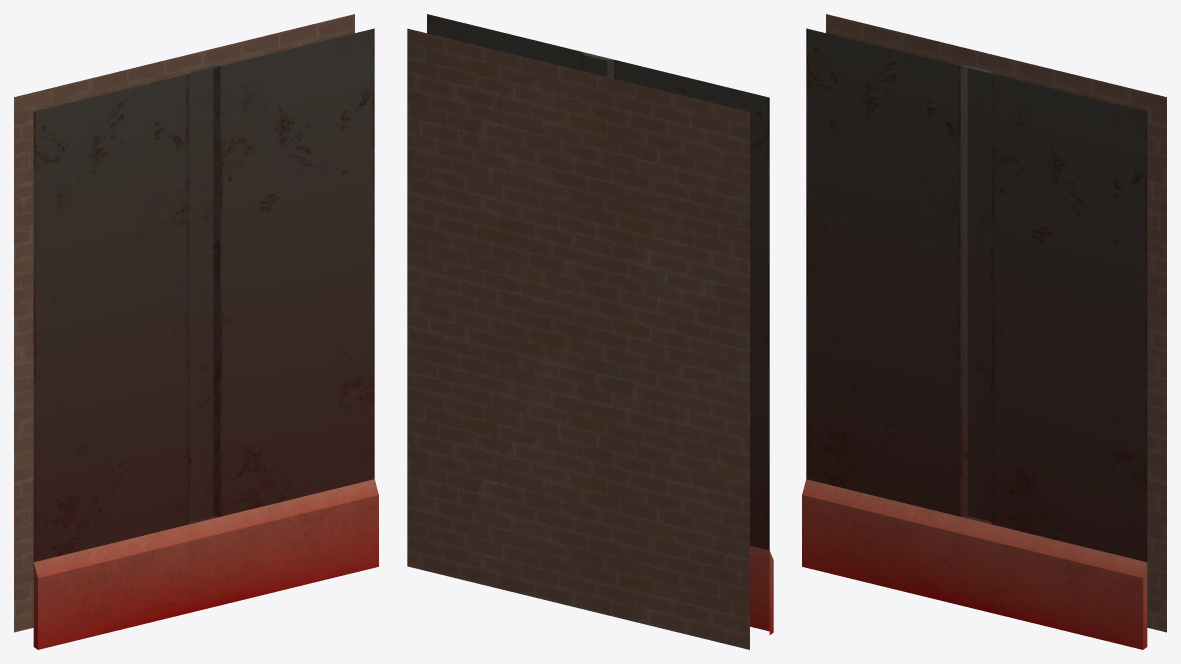
Rendered from Metal_FirstFloor_Wall.glb.
3 views of the same model, side by side, from view 1: azimuth 30°, elevation 25°; view 2: azimuth 150°, elevation 25°; view 3: azimuth 330°, elevation 25° (orthographic).
Visible parts, largest first — view 1: Metal_FirstFloor_Wall; view 2: Metal_FirstFloor_Wall; view 3: Metal_FirstFloor_Wall.
Boxes of the visible parts, bbox=[...] form: Metal_FirstFloor_Wall: bbox=[14, 14, 378, 649]; Metal_FirstFloor_Wall: bbox=[407, 14, 773, 649]; Metal_FirstFloor_Wall: bbox=[802, 14, 1166, 649].
Size of the model in its own units: 2 by 3 by 0.2421.
Materials: 3 (3 with a texture image).
